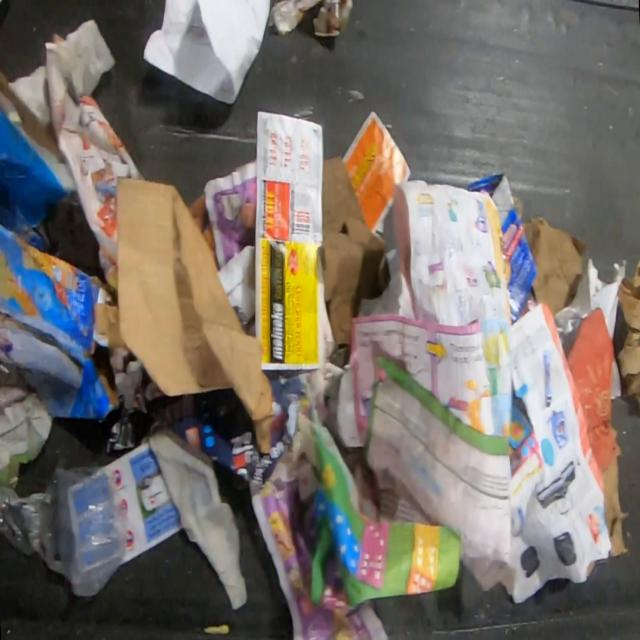cardboard: (92, 177, 276, 455), (0, 200, 123, 423), (0, 14, 118, 228), (565, 304, 630, 558), (320, 153, 390, 345), (466, 173, 539, 325), (523, 214, 588, 316), (614, 253, 640, 413)
soft_plastic: (0, 461, 129, 598)
